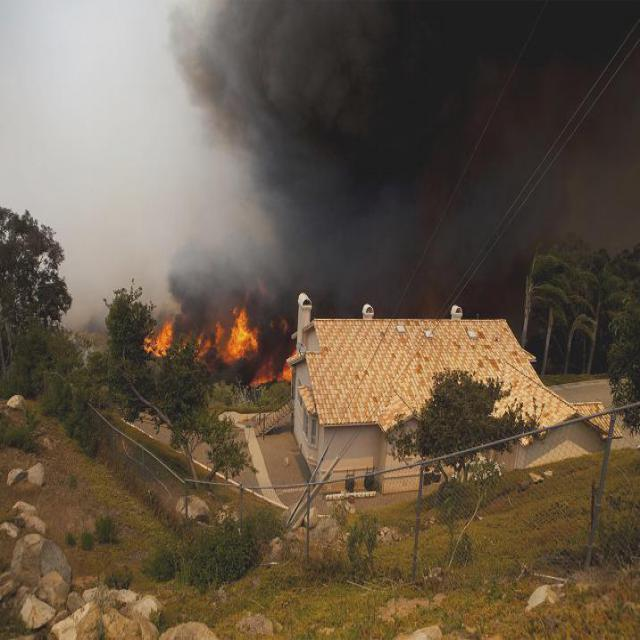Fire: (140, 297, 262, 388)
